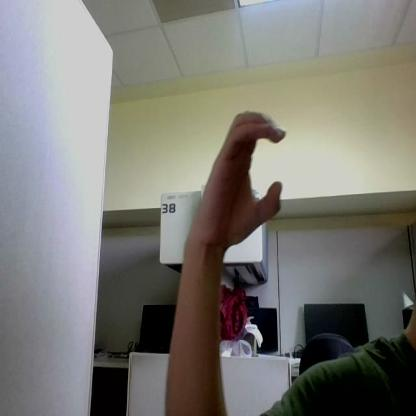C: (202, 111, 286, 246)
